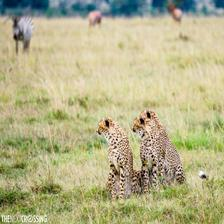Cheetah: (143, 111, 190, 190), (95, 118, 136, 198), (130, 116, 162, 194)
